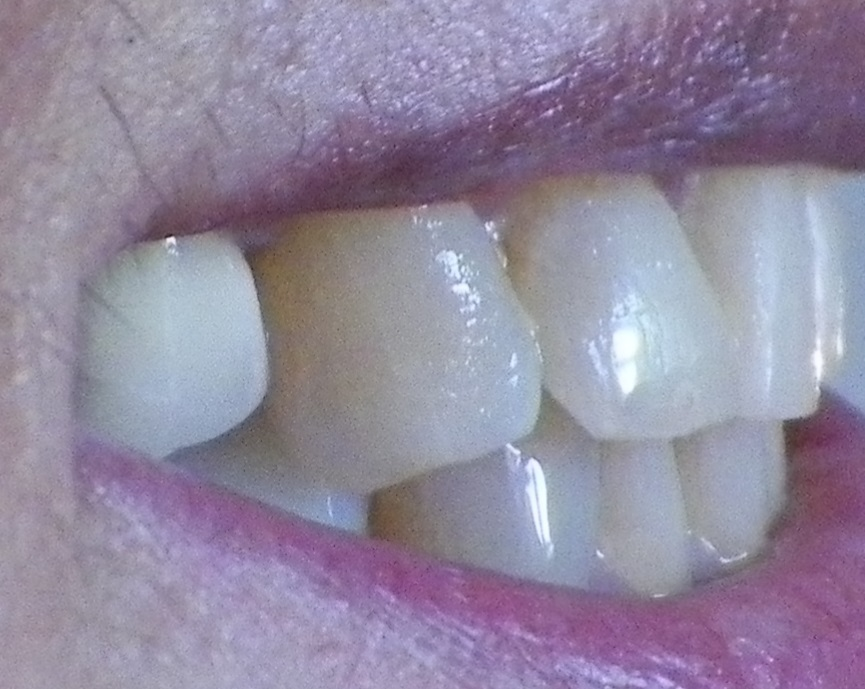boca: (48, 143, 851, 596)
